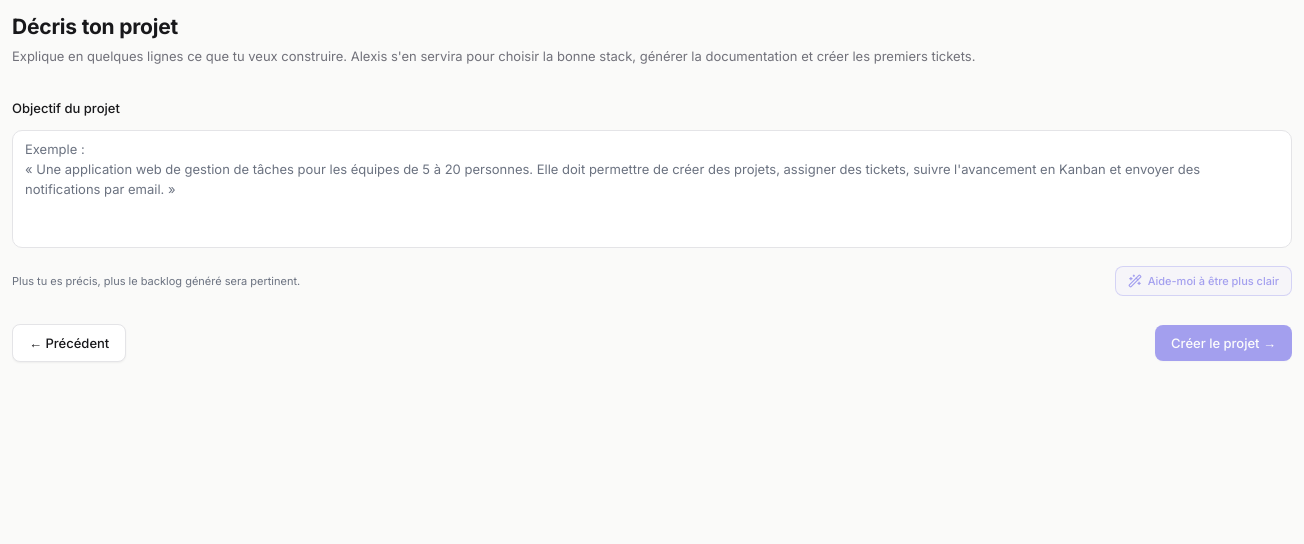
DescriptionPage — bouton Aide-moi à être plus clair › 'Ignorer' ferme la carte sans modifier le textarea
The image size is (1304, 544).
Replace the text in the text box with "mon idée initiale" at (652, 189), box x1=12 y1=130 x2=1292 y2=248
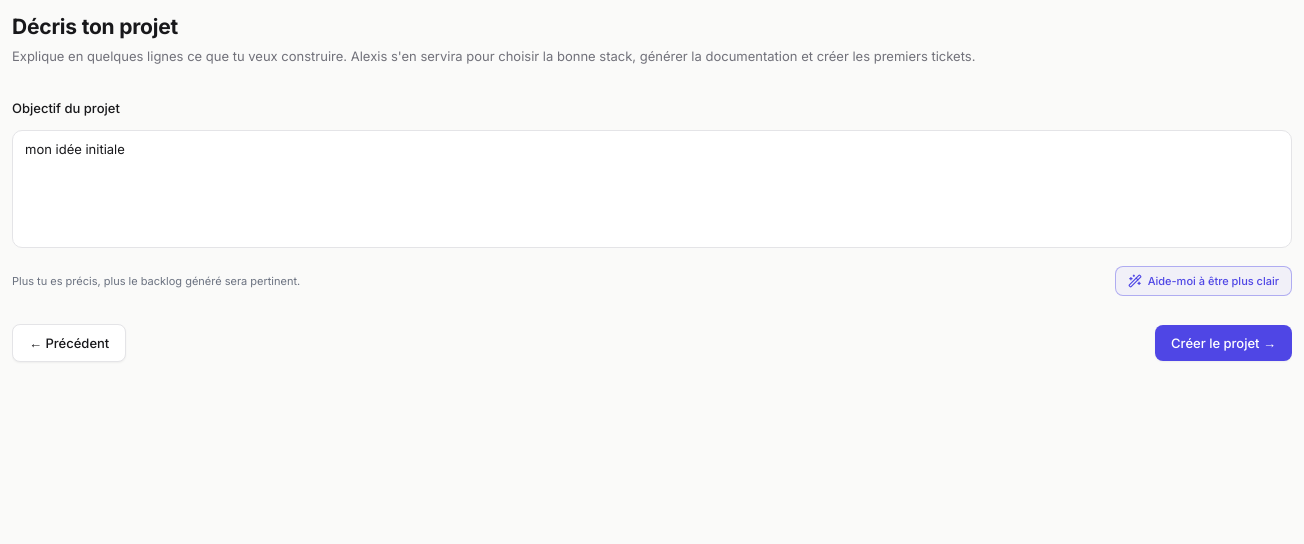
Click the button "Aide-moi à être plus clair" at (1203, 281), box x1=1115 y1=266 x2=1292 y2=296
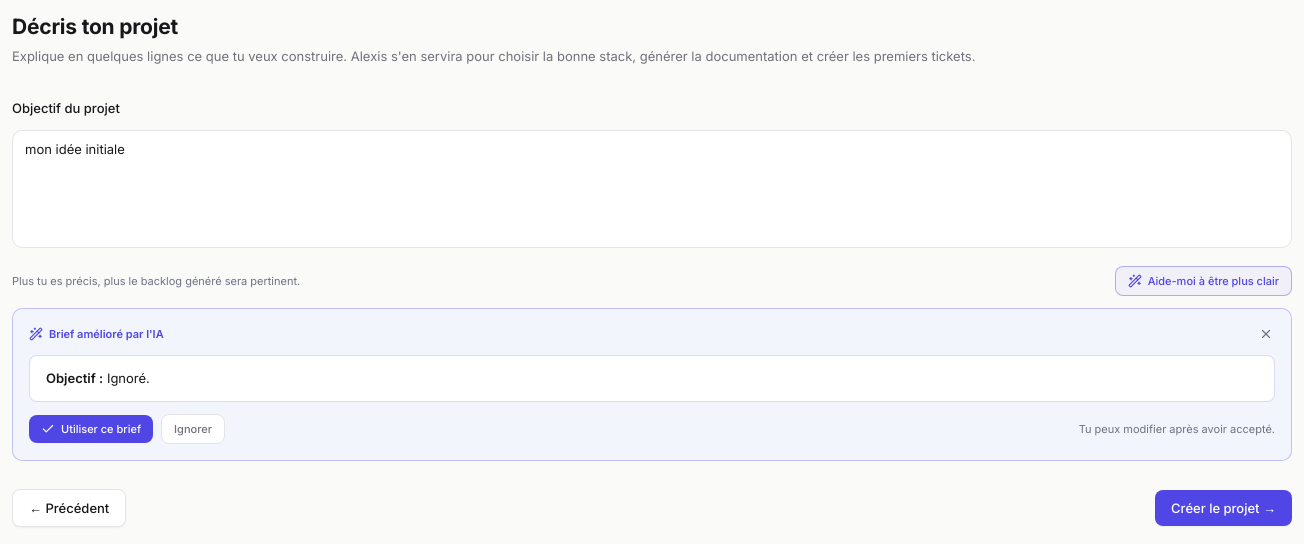
Check: the button "Ignorer" is shown
Click the button "Ignorer" at (193, 429), box x1=161 y1=414 x2=225 y2=444
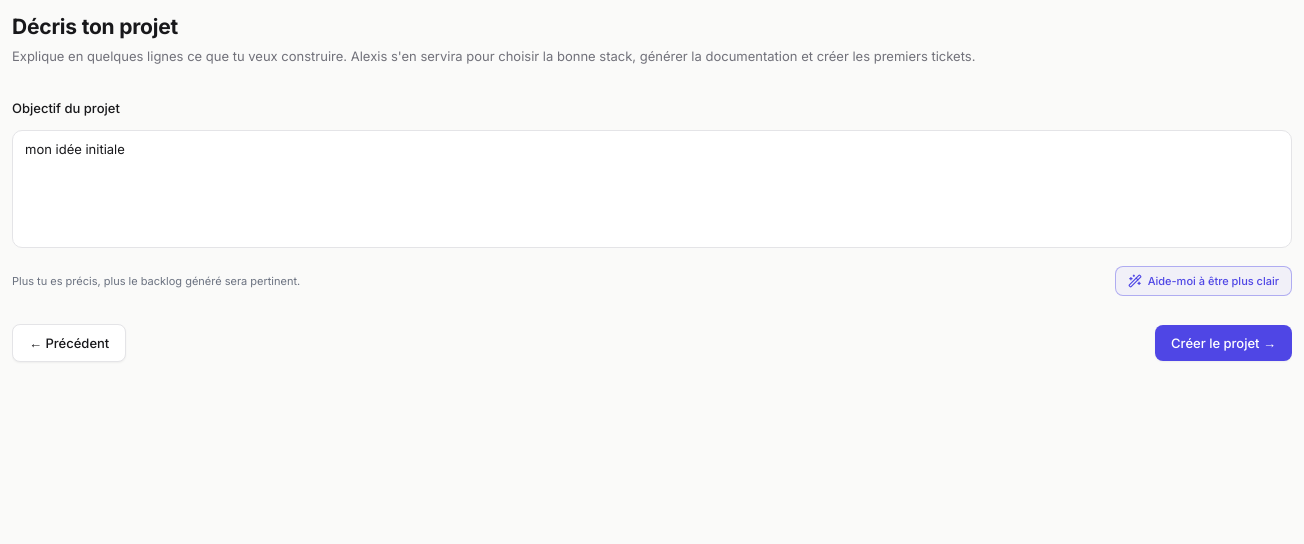
Check: the text "Brief amélioré par l'IA" is gone
